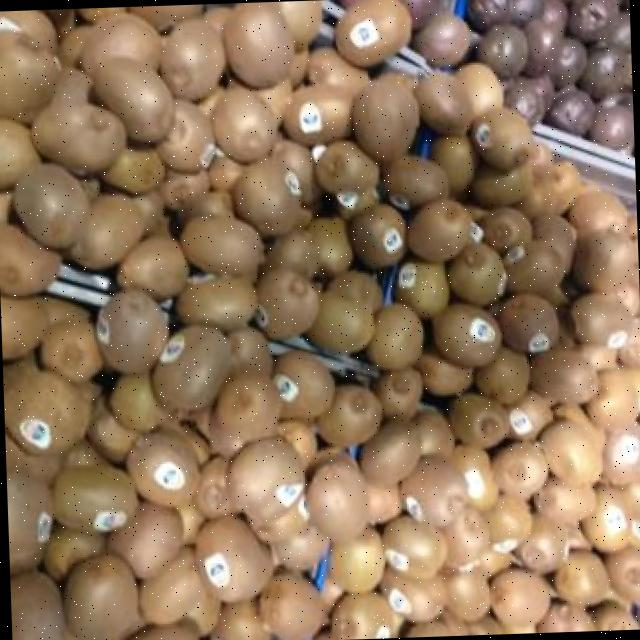kiwi: (1, 362, 89, 453), (63, 554, 142, 640), (30, 100, 125, 171), (194, 516, 271, 601), (93, 60, 173, 141), (13, 163, 89, 248), (152, 325, 228, 408), (228, 437, 301, 520), (222, 2, 291, 88), (67, 193, 143, 269), (96, 291, 166, 373), (107, 503, 181, 578), (52, 465, 136, 531), (125, 432, 198, 506), (0, 33, 60, 123), (351, 81, 418, 161), (231, 158, 299, 236), (159, 19, 225, 99), (306, 457, 367, 541), (211, 85, 276, 163), (139, 547, 203, 624), (399, 455, 468, 526), (79, 14, 159, 75), (5, 471, 52, 573), (179, 217, 262, 274), (335, 0, 408, 64), (258, 573, 326, 640), (255, 267, 317, 339), (214, 373, 279, 441), (117, 237, 187, 300), (175, 277, 255, 331), (432, 304, 500, 367), (156, 99, 215, 170), (271, 351, 332, 419), (39, 317, 101, 382), (306, 291, 373, 351), (382, 516, 446, 578), (0, 225, 59, 292), (283, 87, 351, 145), (539, 421, 601, 484), (407, 199, 469, 261), (318, 384, 381, 445), (365, 303, 422, 369), (572, 230, 632, 292), (379, 567, 446, 622), (529, 348, 597, 402), (360, 423, 420, 484), (447, 243, 505, 306), (471, 108, 529, 171), (382, 155, 448, 210), (379, 568, 446, 622), (330, 527, 384, 593), (108, 372, 166, 433), (348, 204, 404, 267), (9, 571, 60, 640), (569, 293, 631, 349), (584, 368, 640, 430), (87, 395, 138, 463), (497, 294, 557, 351), (314, 140, 378, 193), (413, 75, 470, 134), (489, 569, 548, 625), (448, 393, 508, 448), (269, 139, 319, 204), (43, 525, 102, 579), (580, 487, 631, 549), (491, 442, 547, 498), (502, 240, 562, 292), (474, 346, 527, 403), (514, 514, 567, 571), (307, 47, 368, 96), (0, 297, 48, 359), (553, 550, 608, 604), (395, 262, 448, 318), (330, 592, 391, 640), (441, 506, 488, 568), (532, 477, 595, 523), (247, 496, 307, 544), (567, 189, 626, 237), (102, 147, 163, 193), (451, 445, 496, 507), (0, 118, 39, 189), (531, 214, 574, 278), (470, 163, 531, 208), (483, 494, 530, 552), (192, 456, 235, 518), (429, 136, 474, 193), (415, 351, 472, 396), (308, 217, 351, 276), (0, 10, 57, 54), (266, 230, 318, 278), (374, 367, 421, 420), (455, 64, 501, 118), (274, 526, 328, 569), (207, 410, 255, 458), (325, 271, 381, 312), (480, 207, 531, 252), (603, 423, 640, 484), (211, 601, 267, 640), (227, 326, 271, 375), (444, 572, 488, 621), (507, 392, 551, 439), (275, 0, 320, 45), (159, 169, 208, 210), (413, 409, 453, 455), (277, 420, 316, 467), (546, 160, 579, 214), (128, 5, 201, 29), (514, 178, 557, 218), (537, 603, 593, 633), (254, 79, 291, 124), (604, 552, 640, 598), (185, 593, 220, 635), (591, 601, 638, 631), (335, 187, 377, 219), (366, 484, 400, 523), (52, 68, 89, 103), (131, 191, 162, 232), (183, 191, 231, 217), (208, 157, 242, 191), (176, 502, 203, 543), (130, 624, 196, 640), (614, 284, 639, 315), (617, 345, 640, 366)
